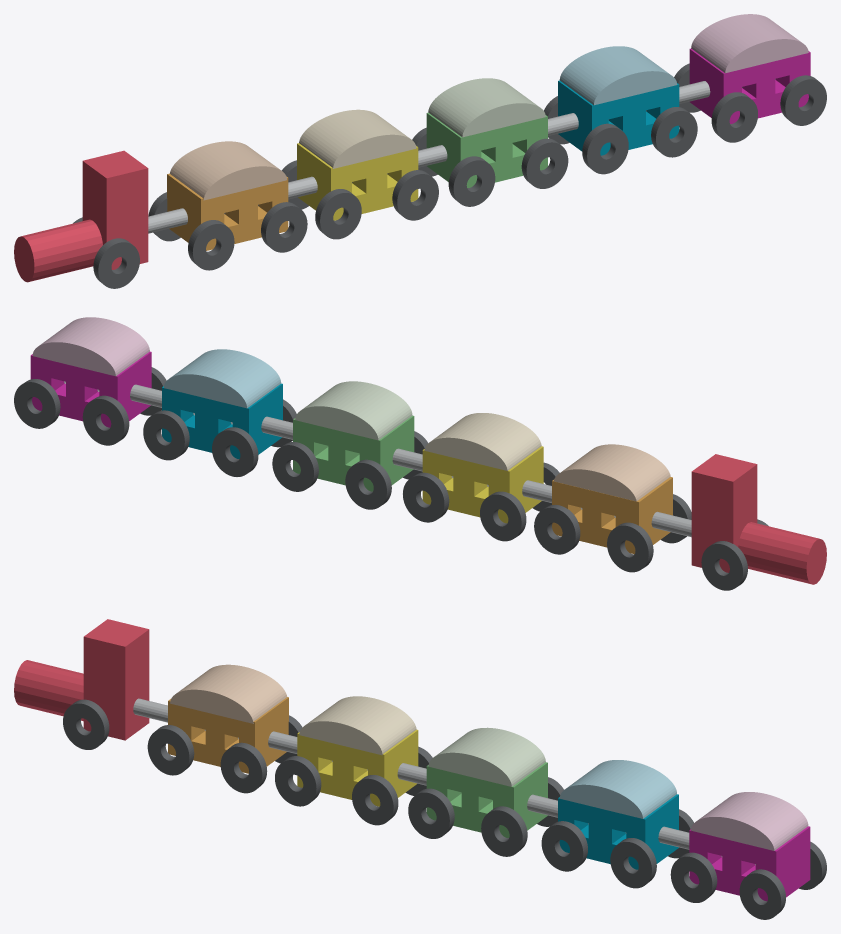
File: Funky Waasa.glb
3 views of the same model, one above another, from view 1: azimuth 30°, elevation 25°; view 2: azimuth 150°, elevation 25°; view 3: azimuth 330°, elevation 25° (orthographic).
Visible parts, largest first — view 1: Mesh_Mesh_head_geo.001_lambert2SG.001; view 2: Mesh_Mesh_head_geo.001_lambert2SG.001; view 3: Mesh_Mesh_head_geo.001_lambert2SG.001.
Part boxes in pixels (x1,y1,x2,y2): Mesh_Mesh_head_geo.001_lambert2SG.001: (14,14,826,288); Mesh_Mesh_head_geo.001_lambert2SG.001: (14,317,826,590); Mesh_Mesh_head_geo.001_lambert2SG.001: (14,619,826,919).
Size of the model in its own units: 374 by 49 by 38.17.
